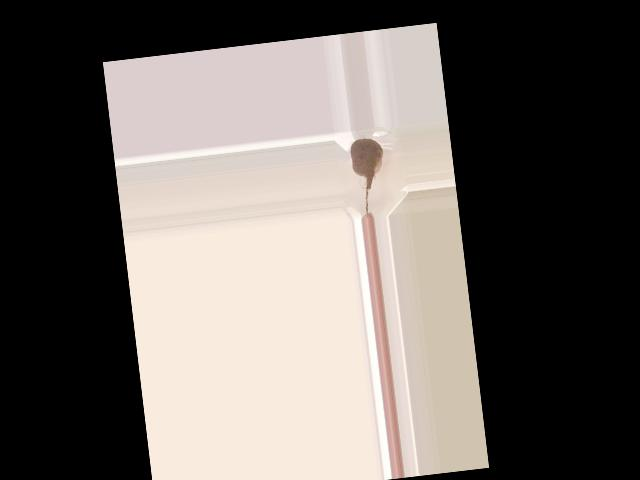beet: (349, 136, 390, 216)
